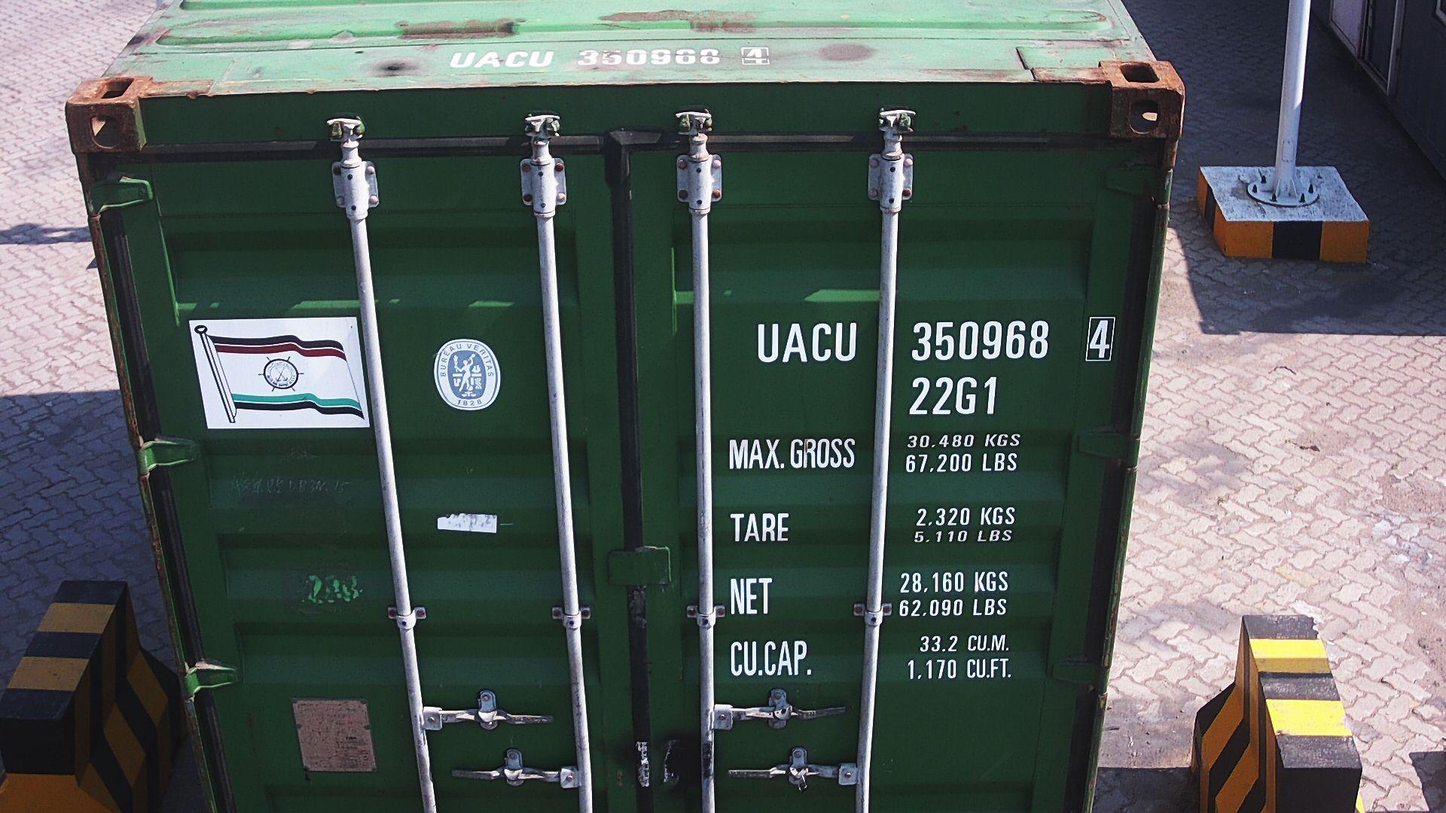container-numbers: (751, 313, 1121, 367), (441, 43, 779, 71), (907, 373, 1002, 419)
